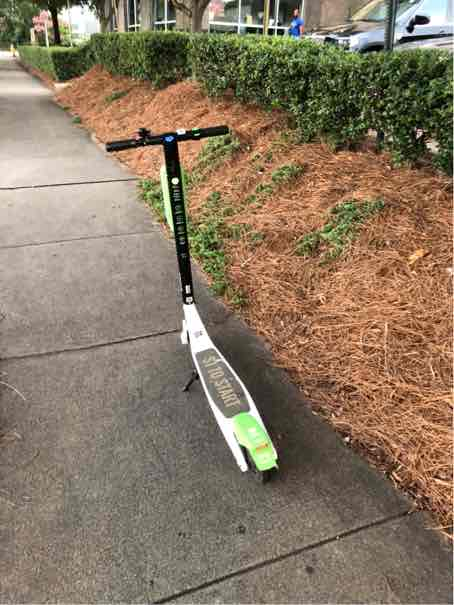scooter: (95, 122, 302, 480)
